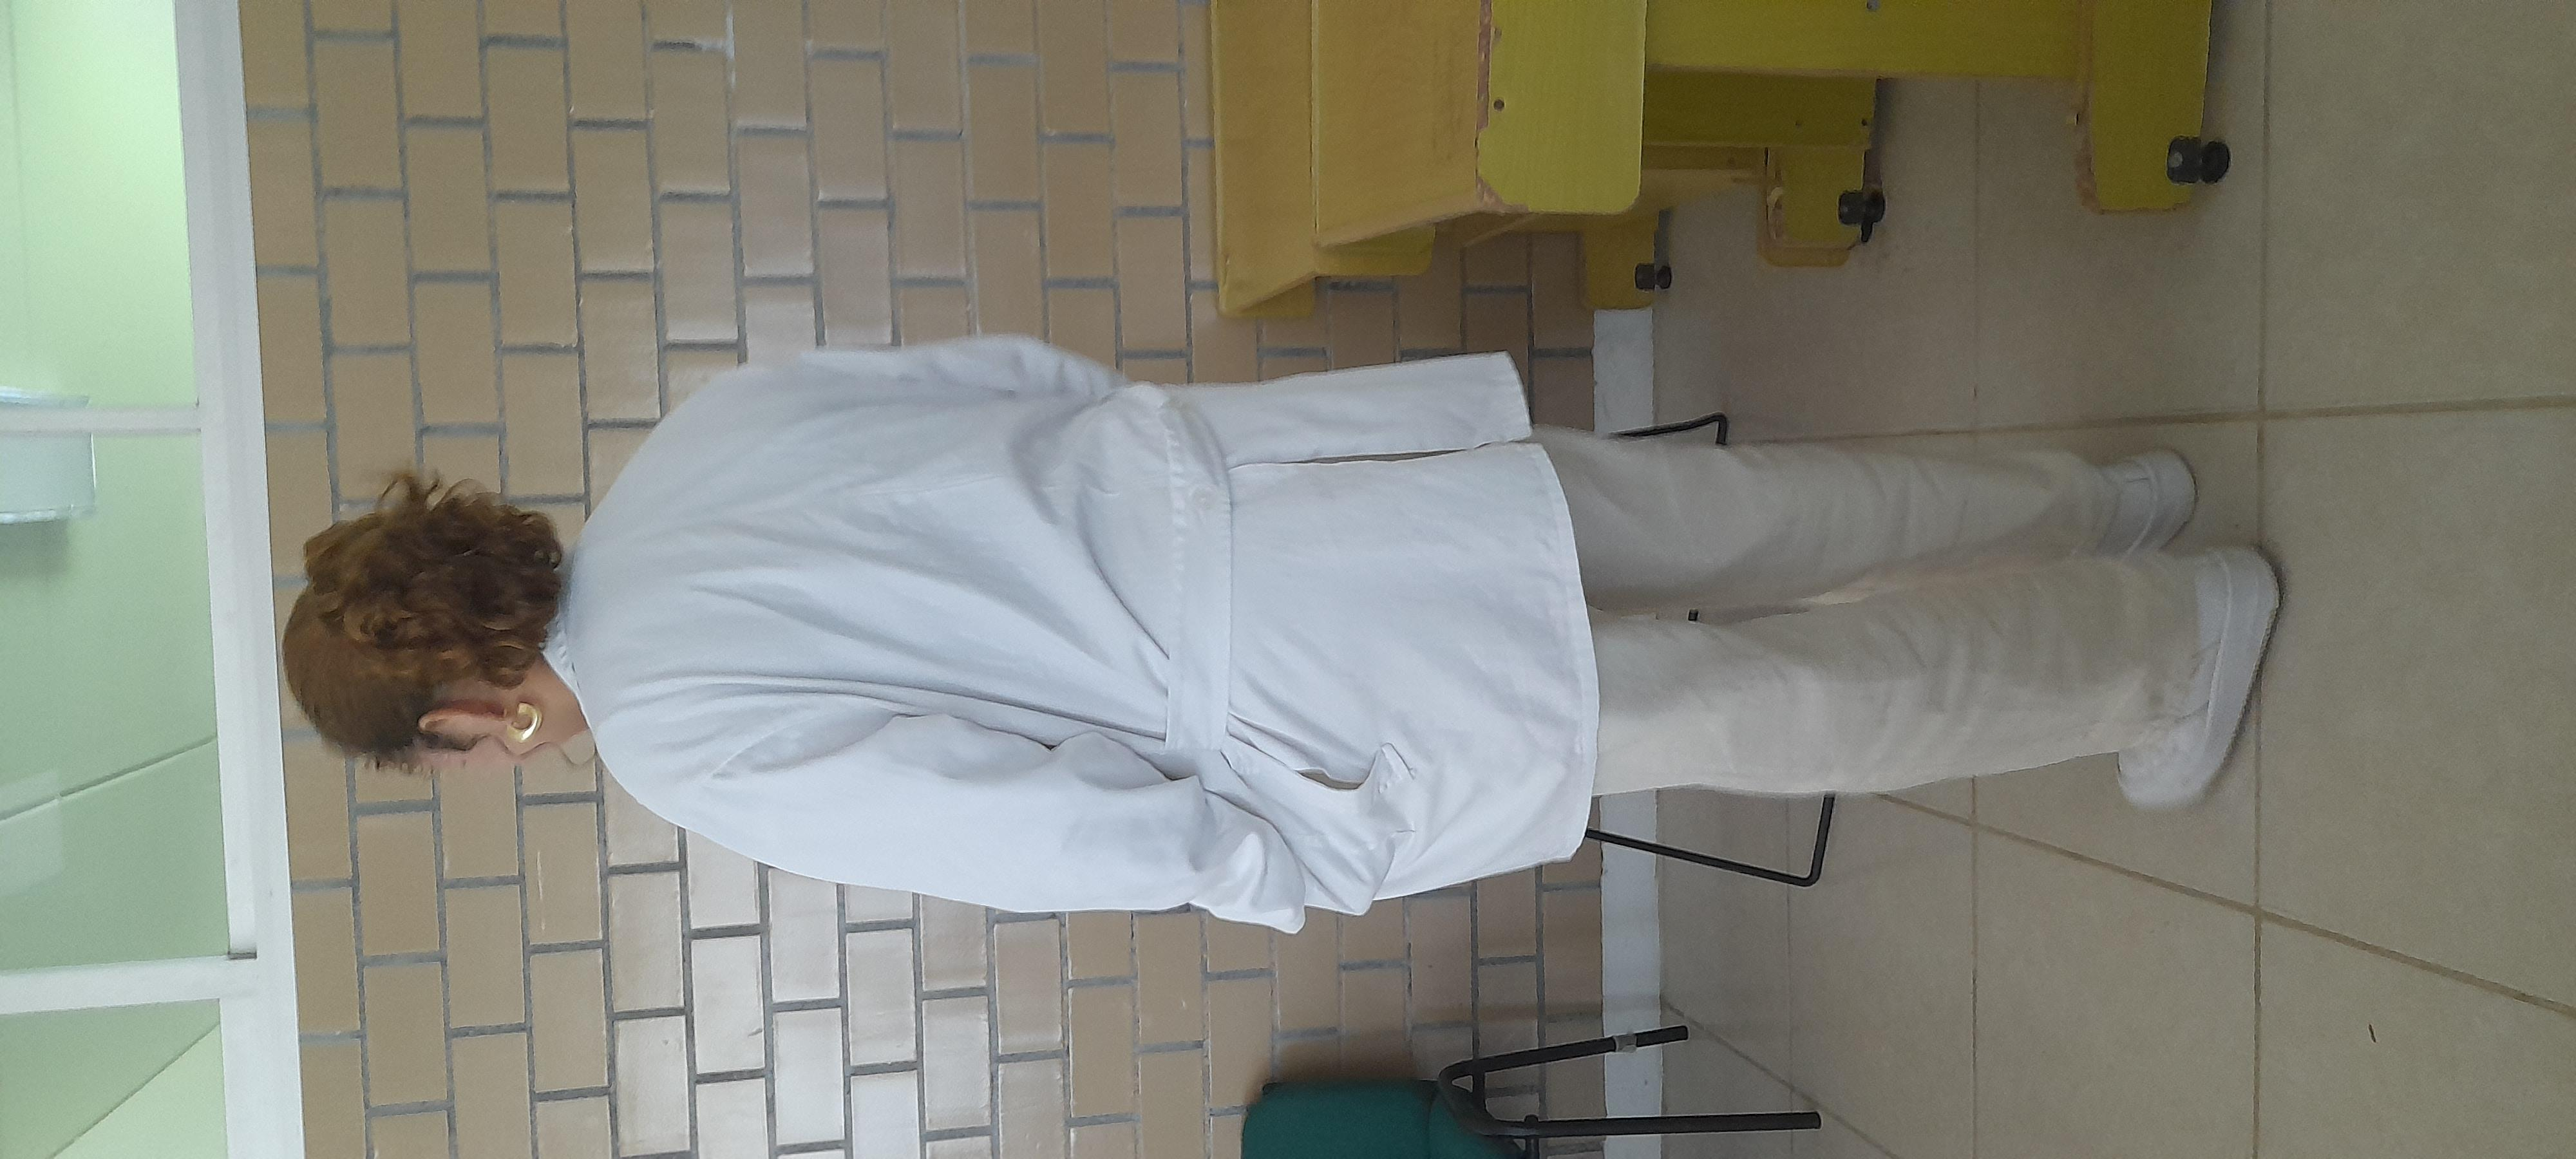Bata-Correcta: (401, 98, 2004, 1064)
